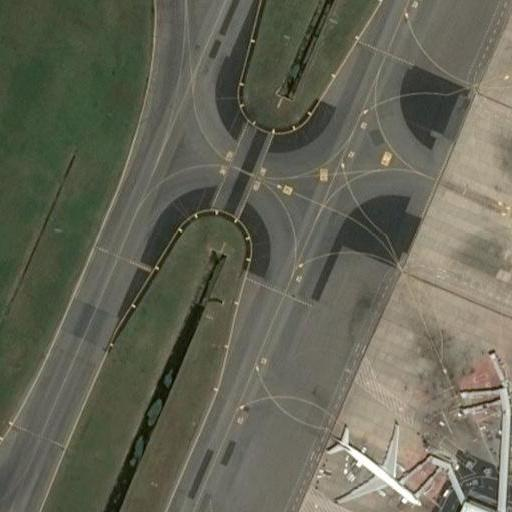Aircraft: (324, 418, 420, 511)
